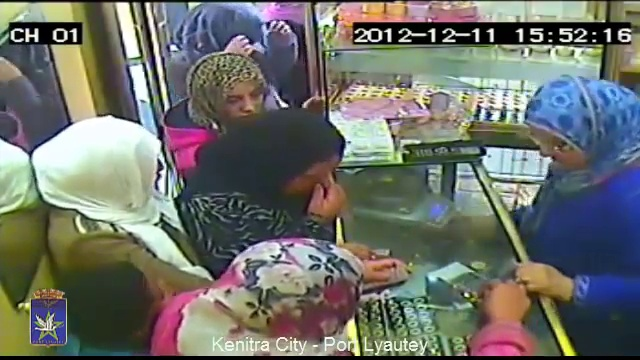face: (533, 119, 580, 190), (214, 65, 265, 126)
